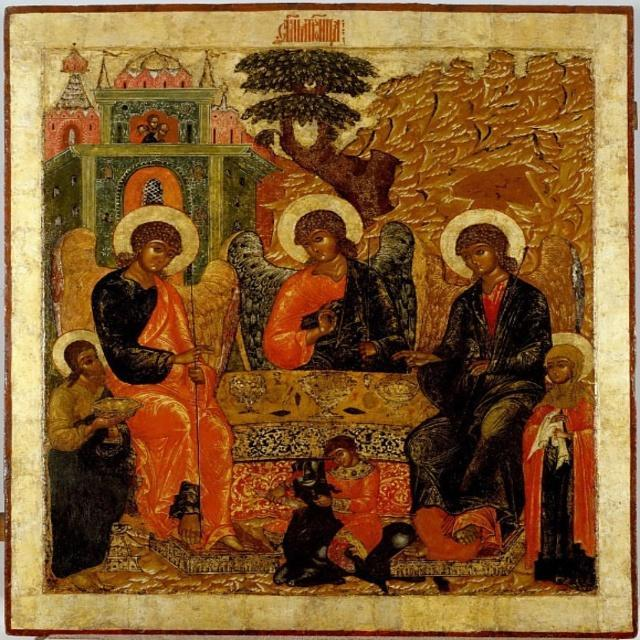angel: (48, 199, 236, 544), (228, 188, 419, 385)
aura: (105, 204, 206, 279), (275, 192, 364, 265), (439, 209, 528, 281), (539, 331, 596, 387), (51, 328, 111, 381)
castle: (51, 46, 271, 203)
chalice: (92, 394, 141, 442)
child: (322, 428, 379, 565)
dog: (288, 460, 332, 598)
saint: (428, 197, 529, 549), (522, 326, 597, 593), (51, 328, 119, 581)
wing: (228, 221, 283, 374), (178, 261, 243, 372), (374, 214, 423, 352), (51, 222, 102, 331)
